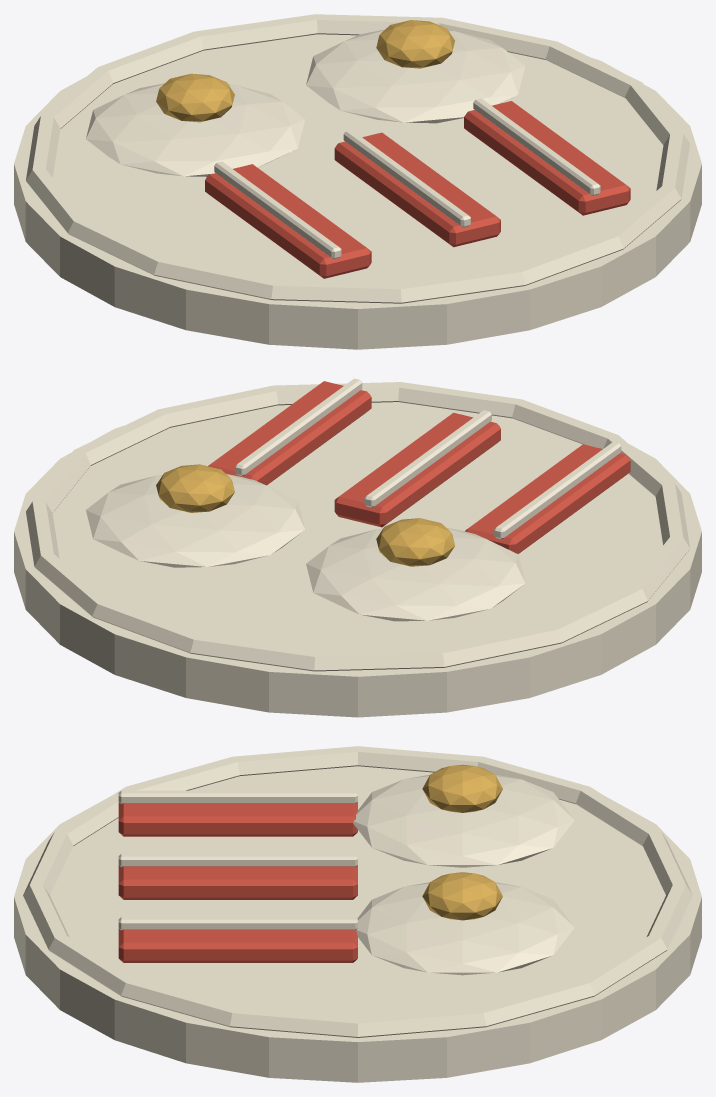
The model's file is Bacon_Eggs.glb.
The picture shows the model from 3 angles, top to bottom: view 1: azimuth 30°, elevation 25°; view 2: azimuth 150°, elevation 25°; view 3: azimuth 270°, elevation 25°; orthographic projection.
Visible parts, largest first — view 1: Bacon_Eggs; view 2: Bacon_Eggs; view 3: Bacon_Eggs.
Part boxes in pixels (x1,y1,x2,y2): Bacon_Eggs: [14, 14, 701, 349]; Bacon_Eggs: [14, 378, 701, 717]; Bacon_Eggs: [14, 746, 701, 1082].
Bounding box in the file's own units: 0.46 × 0.0835 × 0.46.
